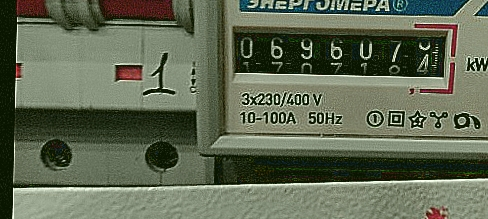0: (237, 34, 254, 59), (357, 35, 372, 60)
4: (413, 51, 430, 76)
6: (327, 35, 344, 60), (267, 35, 284, 59)
7: (387, 38, 402, 64)
9: (297, 36, 313, 60)
screen: (217, 12, 461, 91)
